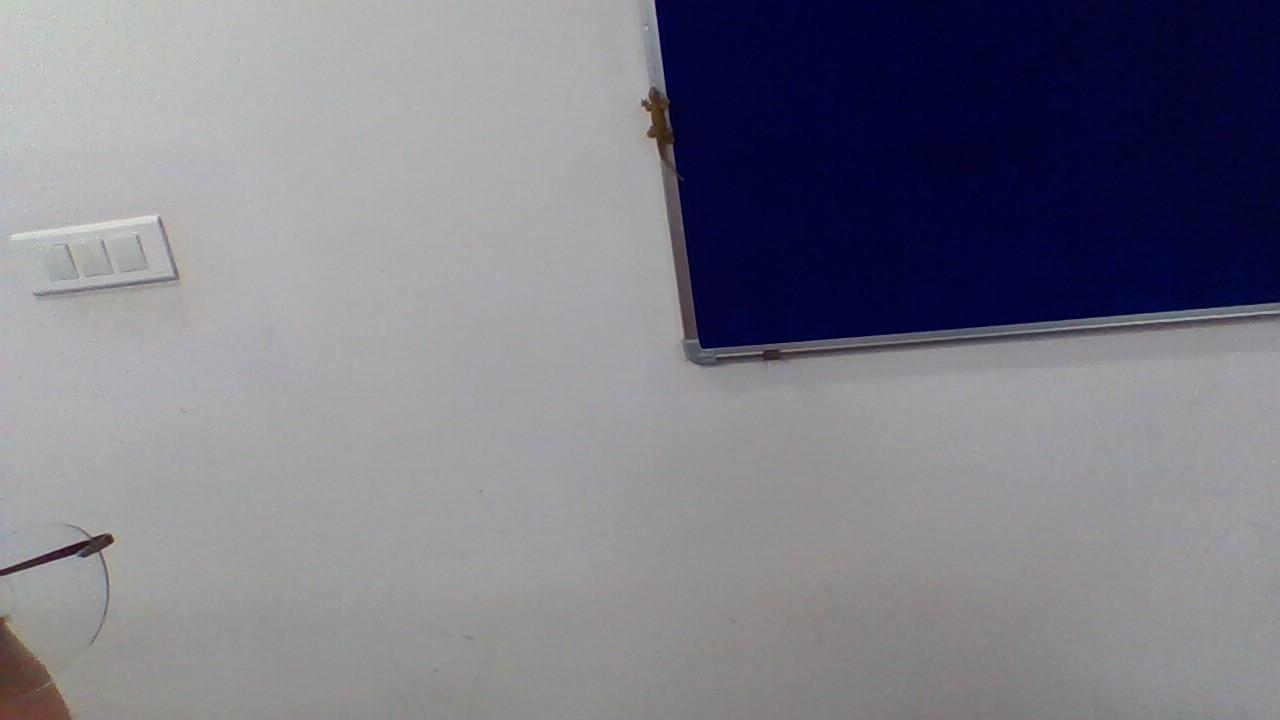lizard: (633, 75, 680, 167)
